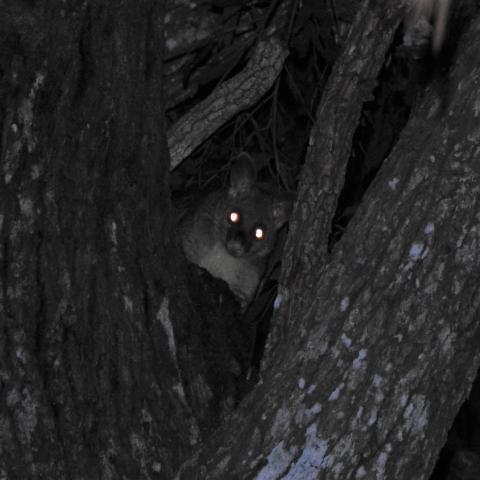small_animal: (177, 151, 299, 338)
